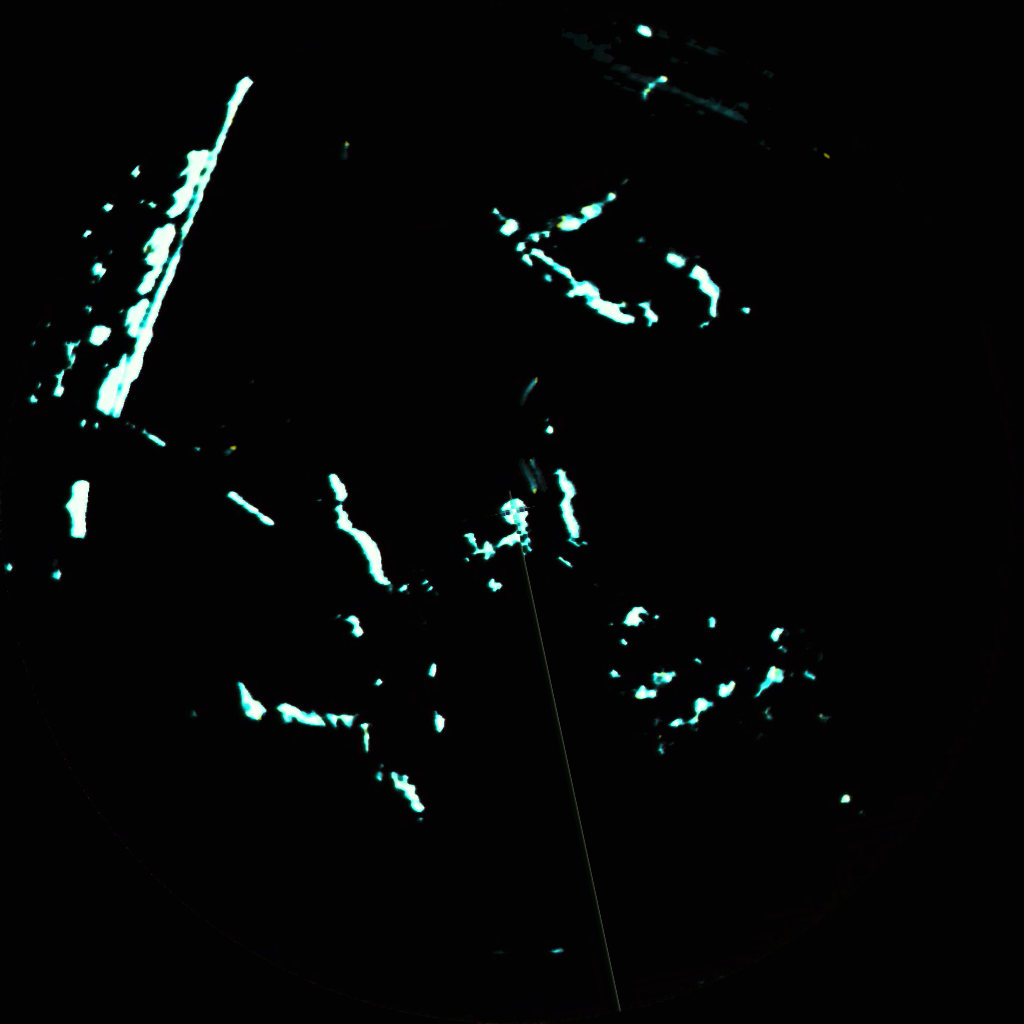B: (520, 464, 533, 487), (521, 377, 534, 399), (533, 464, 543, 485)
